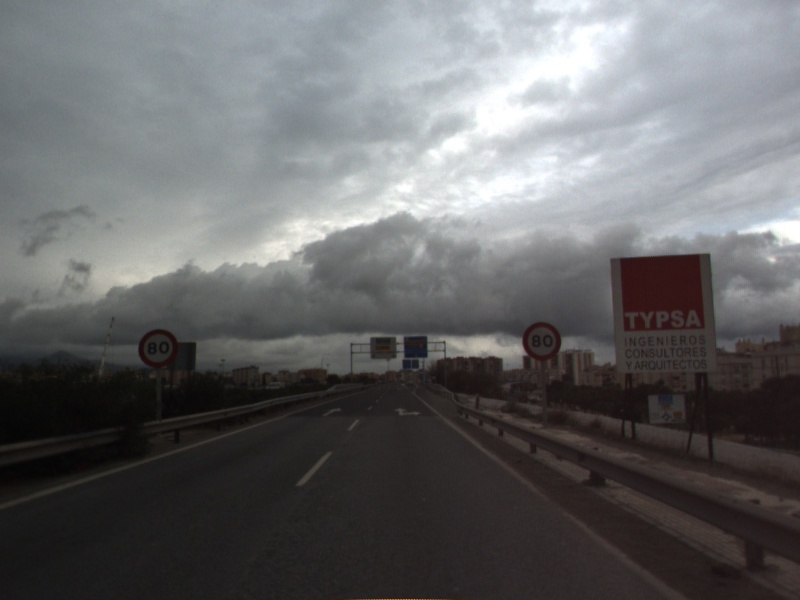STRAIGHT: (320, 405, 344, 418)
STRAIGHT_RIGHT: (392, 405, 424, 418)
